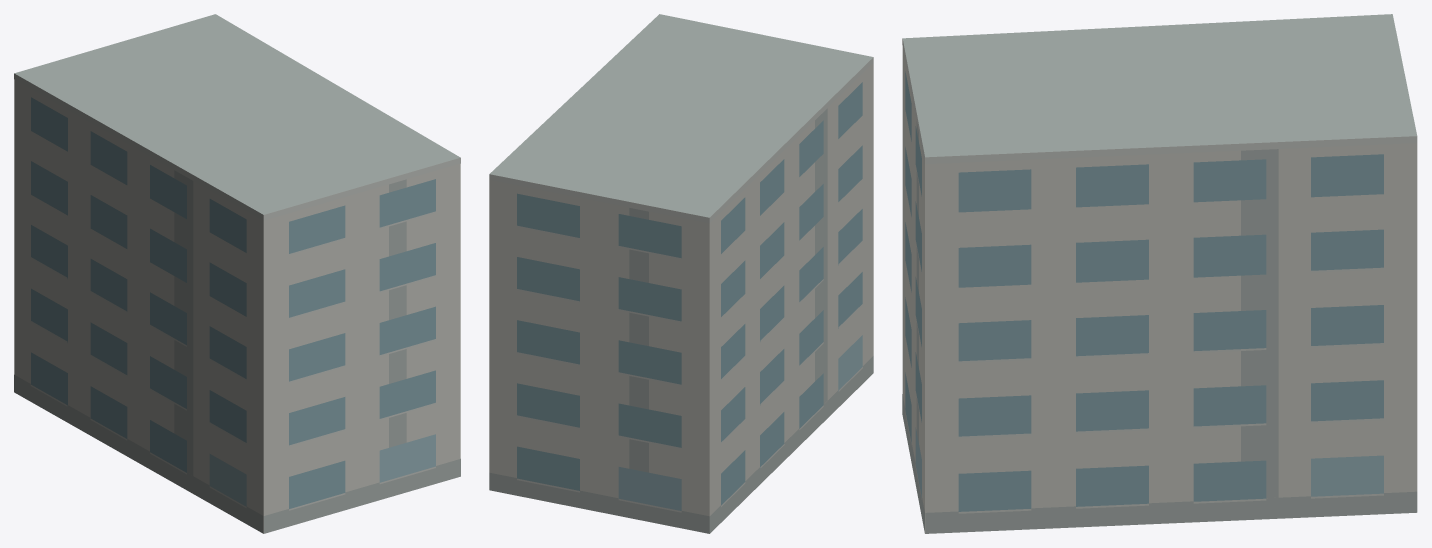
Rendered from survey-upis-32887403.glb.
3 views of the same model, side by side, from view 1: azimuth 30°, elevation 25°; view 2: azimuth 150°, elevation 25°; view 3: azimuth 270°, elevation 25° (orthographic). The views are drawn at different scales.
Visible parts, largest first — view 1: survey-upis-32887403.tmp; view 2: survey-upis-32887403.tmp; view 3: survey-upis-32887403.tmp.
Part boxes in pixels (x1=…): survey-upis-32887403.tmp: x1=14, y1=14, x2=460, y2=533; survey-upis-32887403.tmp: x1=489, y1=14, x2=873, y2=533; survey-upis-32887403.tmp: x1=902, y1=14, x2=1417, y2=533.
Bounding box in the file's own units: 10.7 × 13.1 × 16.24.
